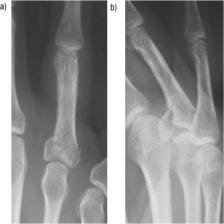intra-articular-fracture: (12, 0, 224, 224)
